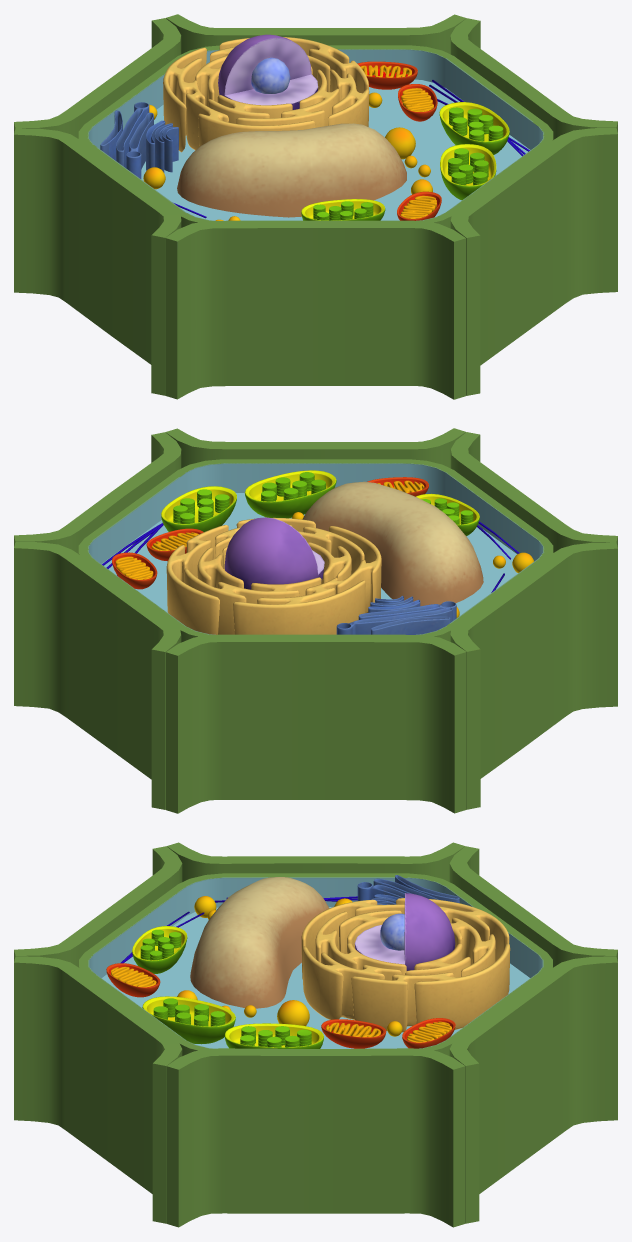
Rendered from Celula_Vegetal.fbx.
3 views of the same model, one above another, from view 1: azimuth 30°, elevation 25°; view 2: azimuth 150°, elevation 25°; view 3: azimuth 270°, elevation 25° (orthographic).
Parts seen in each view (by area): view 1: Membrana_Celular, Citoplasma, Vacuola_Central, Reticulo_Endoplasmatico.001, Nucleo, Aparato_Golgi, Cloroplasto_3, Cloroplasto_2, Lisosomas, Cloroplasto_1, Mitocondria_3, Mitocondria_2 (+2 smaller); view 2: Membrana_Celular, Citoplasma, Reticulo_Endoplasmatico.001, Vacuola_Central, Nucleo, Aparato_Golgi, Cloroplasto_2, Cloroplasto_3, Mitocondria_3, Cloroplasto_1, Mitocondria_2, Mitocondria_1 (+2 smaller); view 3: Membrana_Celular, Reticulo_Endoplasmatico.001, Citoplasma, Vacuola_Central, Nucleo, Cloroplasto_2, Cloroplasto_3, Cloroplasto_1, Lisosomas, Aparato_Golgi, Mitocondria_2, Mitocondria_1 (+2 smaller).
Part boxes in pixels (bbox=[...]): Membrana_Celular: bbox=[14, 14, 617, 399]; Citoplasma: bbox=[78, 45, 553, 228]; Vacuola_Central: bbox=[177, 123, 406, 217]; Reticulo_Endoplasmatico.001: bbox=[163, 37, 369, 152]; Nucleo: bbox=[218, 34, 318, 109]; Aparato_Golgi: bbox=[100, 102, 178, 178]; Cloroplasto_3: bbox=[439, 102, 509, 154]; Cloroplasto_2: bbox=[440, 144, 496, 200]; Lisosomas: bbox=[143, 92, 432, 220]; Cloroplasto_1: bbox=[301, 199, 385, 220]; Mitocondria_3: bbox=[357, 61, 417, 89]; Mitocondria_2: bbox=[398, 84, 437, 121]; Membrana_Celular: bbox=[14, 428, 617, 813]; Citoplasma: bbox=[78, 459, 553, 642]; Reticulo_Endoplasmatico.001: bbox=[166, 517, 381, 634]; Vacuola_Central: bbox=[302, 481, 483, 606]; Nucleo: bbox=[224, 517, 324, 589]; Aparato_Golgi: bbox=[336, 595, 456, 634]; Cloroplasto_2: bbox=[245, 470, 336, 518]; Cloroplasto_3: bbox=[161, 486, 236, 531]; Mitocondria_3: bbox=[112, 552, 157, 589]; Cloroplasto_1: bbox=[416, 493, 479, 536]; Mitocondria_2: bbox=[146, 528, 203, 561]; Mitocondria_1: bbox=[367, 477, 428, 496]; Membrana_Celular: bbox=[14, 842, 617, 1227]; Reticulo_Endoplasmatico.001: bbox=[301, 898, 510, 1032]; Citoplasma: bbox=[79, 873, 552, 1055]; Vacuola_Central: bbox=[190, 877, 329, 1008]; Nucleo: bbox=[354, 893, 455, 970]; Cloroplasto_2: bbox=[142, 996, 235, 1044]; Cloroplasto_3: bbox=[224, 1023, 323, 1048]; Cloroplasto_1: bbox=[132, 926, 187, 973]; Lisosomas: bbox=[177, 896, 402, 1036]; Aparato_Golgi: bbox=[357, 875, 459, 904]; Mitocondria_2: bbox=[321, 1019, 386, 1048]; Mitocondria_1: bbox=[106, 963, 160, 997].
Size of the model in its own units: 2.71 by 1.19 by 3.04.
1 material, 1 textured.
